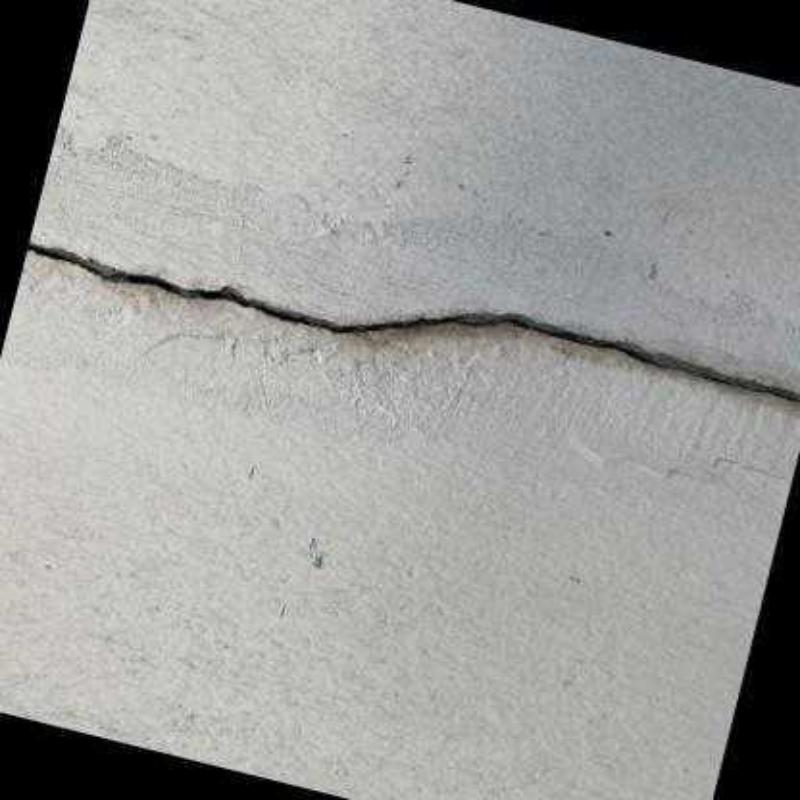pothole: (25, 243, 800, 408)
